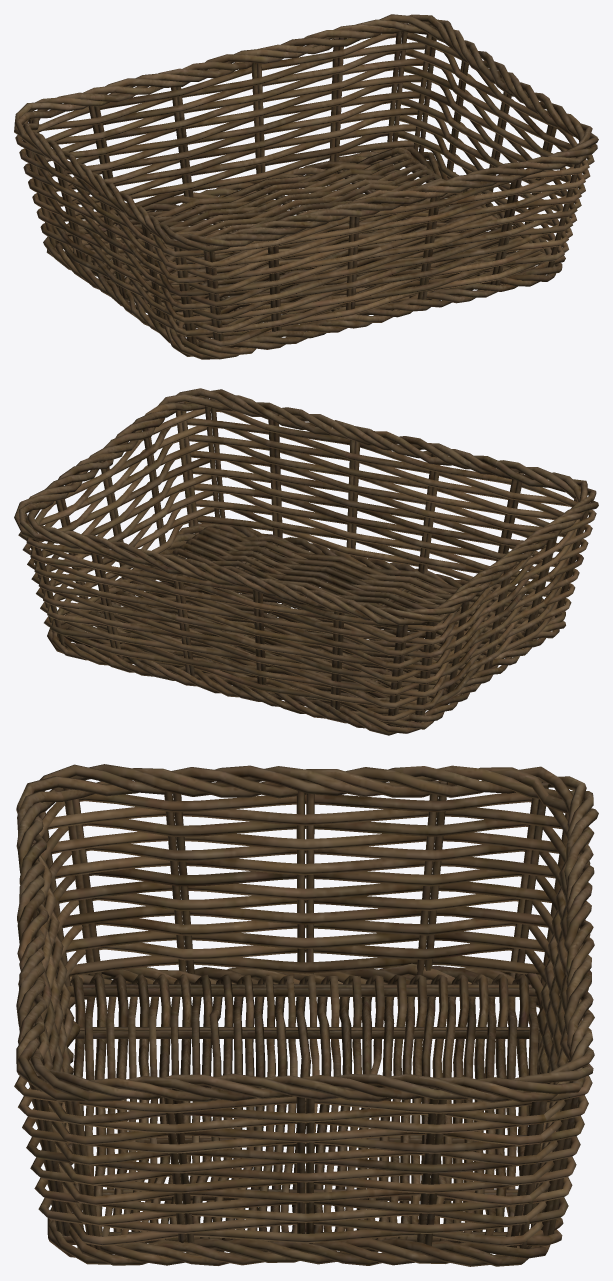
File: wicker_basket_01.glb
3 renders of one model, top to bottom at view 1: azimuth 30°, elevation 25°; view 2: azimuth 150°, elevation 25°; view 3: azimuth 270°, elevation 25°, orthographic. The views are drawn at different scales.
Visible parts, largest first — view 1: wicker_basket_01; view 2: wicker_basket_01; view 3: wicker_basket_01.
Boxes of the visible parts, x1=… form: wicker_basket_01: x1=14, y1=14, x2=598, y2=359; wicker_basket_01: x1=14, y1=388, x2=598, y2=735; wicker_basket_01: x1=14, y1=764, x2=598, y2=1266.
Bounding box in the file's own units: 0.3832 × 0.1174 × 0.295.
Materials: 1 (1 with a texture image).
